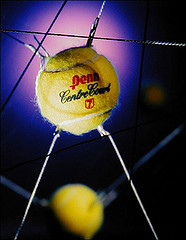tennis ball: (35, 46, 121, 134), (49, 184, 107, 238)
